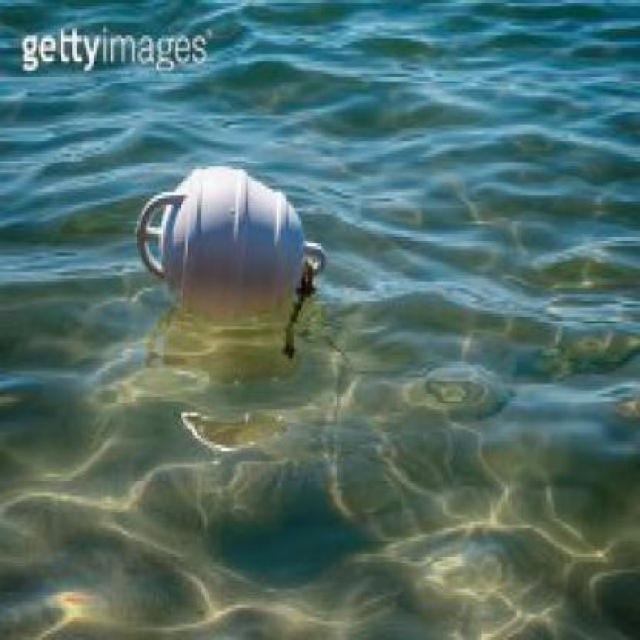a: (124, 145, 338, 343)
